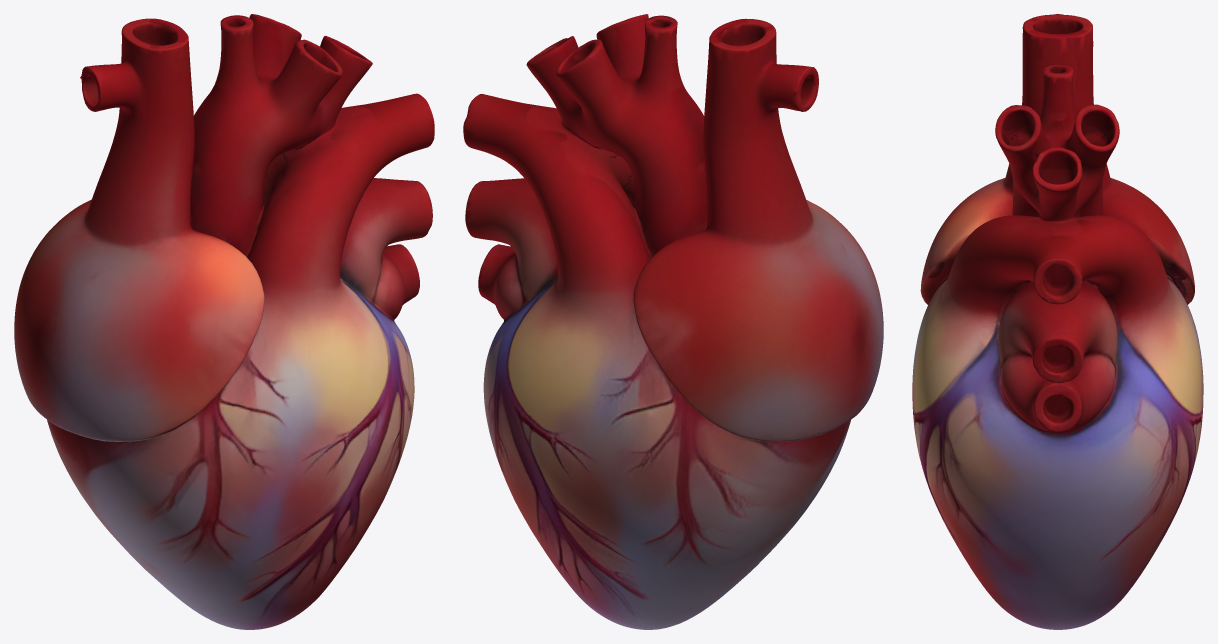
File: rabbit_heart.glb
The picture shows the model from 3 angles, left to right: view 1: azimuth 30°, elevation 25°; view 2: azimuth 150°, elevation 25°; view 3: azimuth 270°, elevation 25°; orthographic projection. The views are drawn at different scales.
Visible parts, largest first — view 1: model; view 2: model; view 3: model.
Part boxes in pixels (bbox=[...]): model: bbox=[14, 14, 434, 629]; model: bbox=[463, 14, 883, 629]; model: bbox=[912, 14, 1203, 629].
Bounding box in the file's own units: 1.26 × 1.9 × 0.9031.
1 material, 1 textured.
